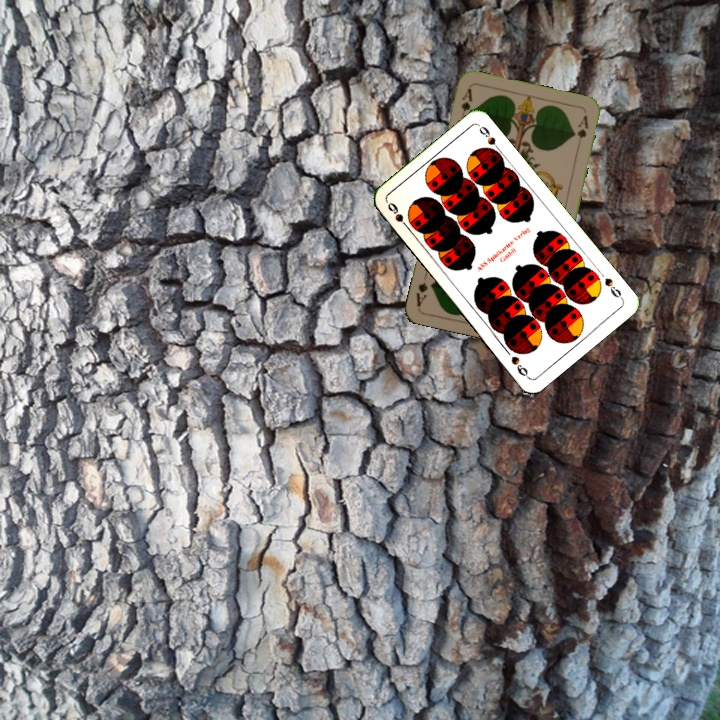GA: (456, 85, 475, 124)
S9: (383, 198, 413, 233), (600, 274, 626, 302)
